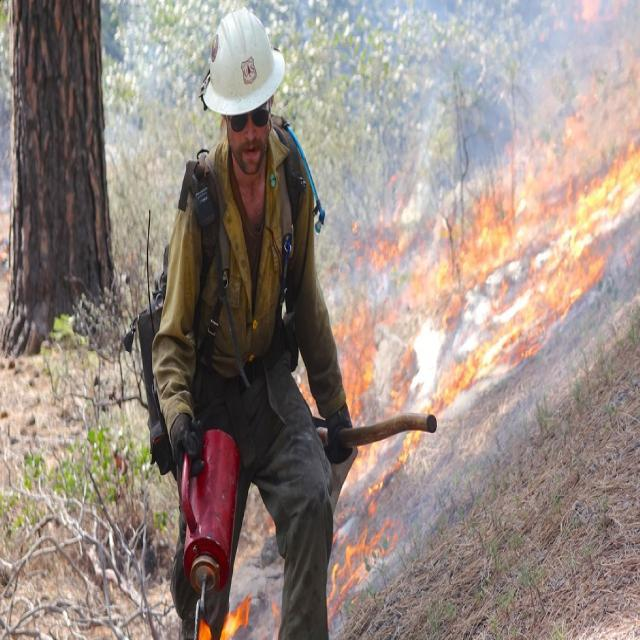Fire: (368, 136, 640, 498), (326, 506, 402, 627), (194, 591, 260, 640)
